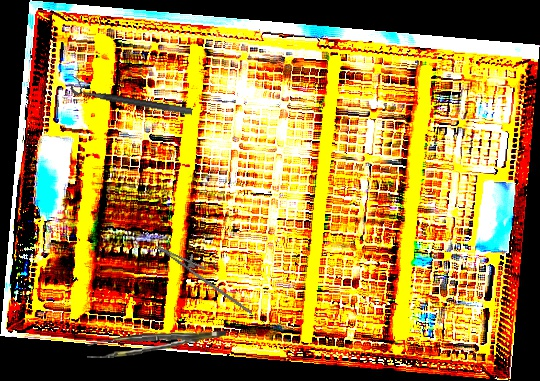Fixation Ring: (69, 76, 195, 116)
Needle Holder: (148, 237, 264, 315)
Tissue Forceps: (86, 330, 227, 359)
